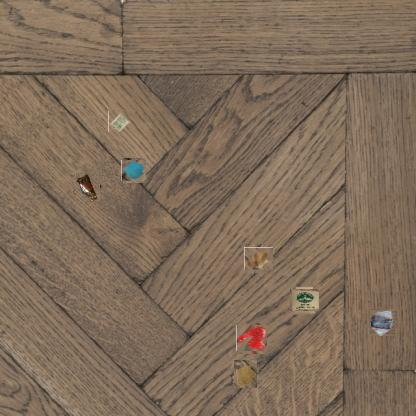dirty: (74, 174, 102, 201), (370, 309, 396, 336), (291, 288, 317, 314), (245, 246, 272, 271), (122, 159, 146, 182), (108, 110, 131, 132)
liquid: (238, 324, 266, 353), (232, 361, 258, 387)
